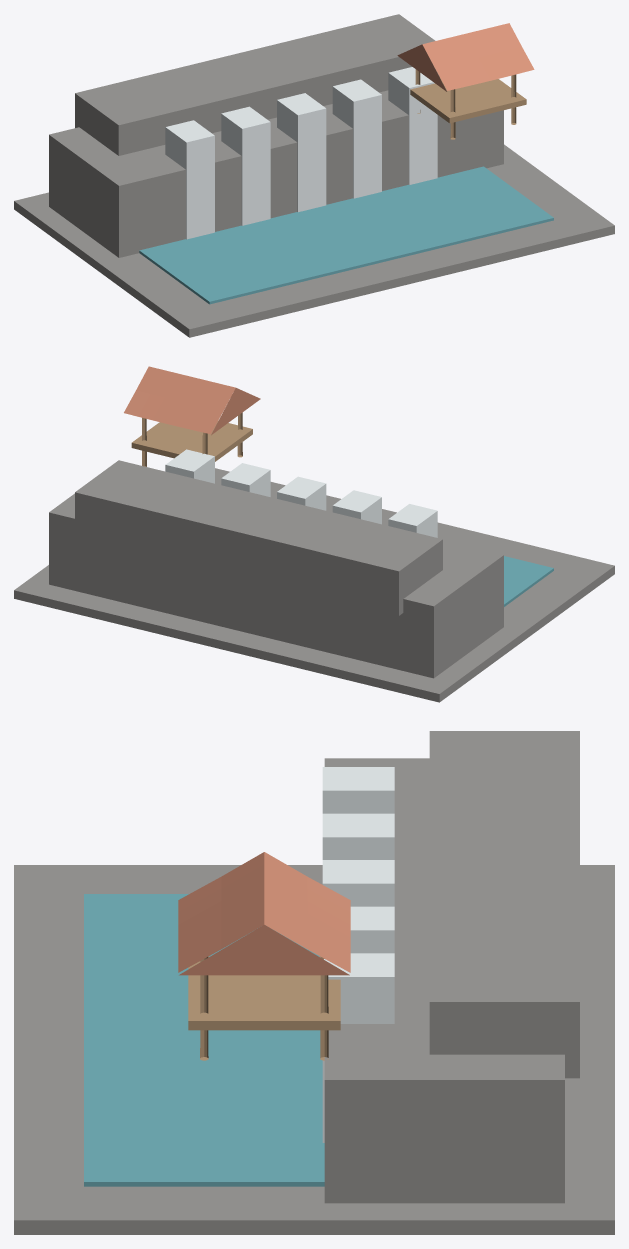
The model's file is lm_100_thac_lien_khuong_duc_trong_basalt_canyon_and_viewing_pavilion.glb.
3 views of the same model, one above another, from view 1: azimuth 30°, elevation 25°; view 2: azimuth 150°, elevation 25°; view 3: azimuth 270°, elevation 25° (orthographic). The views are drawn at different scales.
Parts seen in each view (by area): view 1: lm_100_thac_lien_khuong_duc_trong_basalt_canyon_and_viewing_; view 2: lm_100_thac_lien_khuong_duc_trong_basalt_canyon_and_viewing_; view 3: lm_100_thac_lien_khuong_duc_trong_basalt_canyon_and_viewing_.
Part boxes in pixels (x1,y1,x2,y2): lm_100_thac_lien_khuong_duc_trong_basalt_canyon_and_viewing_: [14, 14, 614, 337]; lm_100_thac_lien_khuong_duc_trong_basalt_canyon_and_viewing_: [14, 366, 614, 702]; lm_100_thac_lien_khuong_duc_trong_basalt_canyon_and_viewing_: [14, 731, 614, 1234].
Bounding box in the file's own units: 42 × 15.6 × 30.
